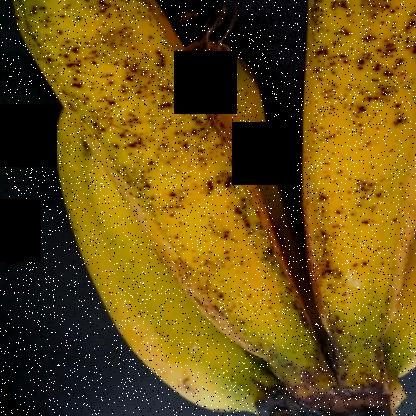ripe: (1, 0, 325, 364), (295, 1, 416, 340)
